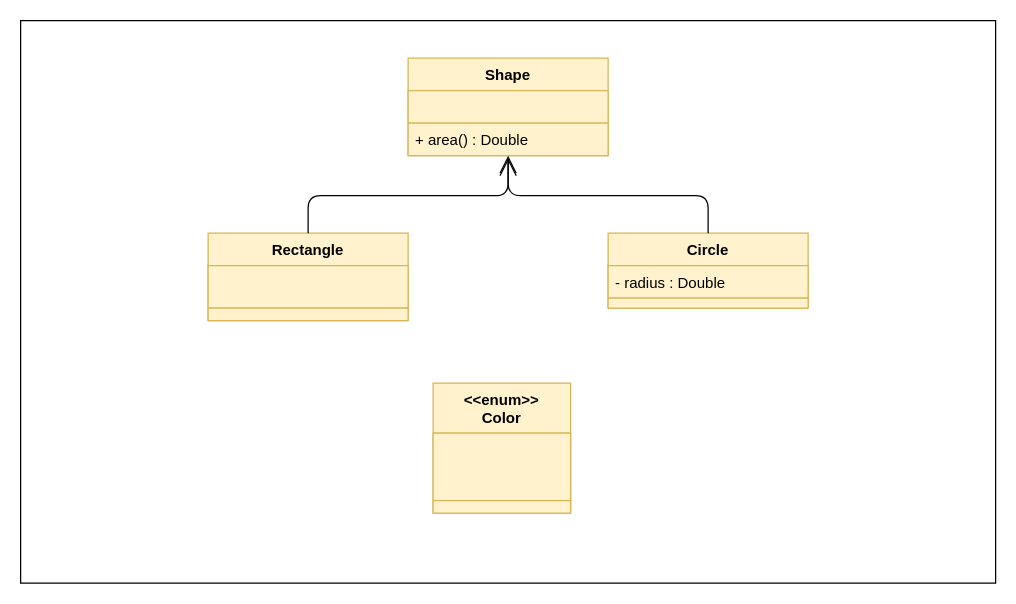
Some shapes in this 1016 by 604 pixel diagram are drawn without their labels. The shapes that lost their labels are listed below. From the top down, each one's centre as x and y in pixels, then its label:
At (x=507, y=106): "- color : Color".
At (x=307, y=286): "- width : Double - heigth : Double".
At (x=501, y=466): "- BLACK : int - BLUE : int - RED : int".
